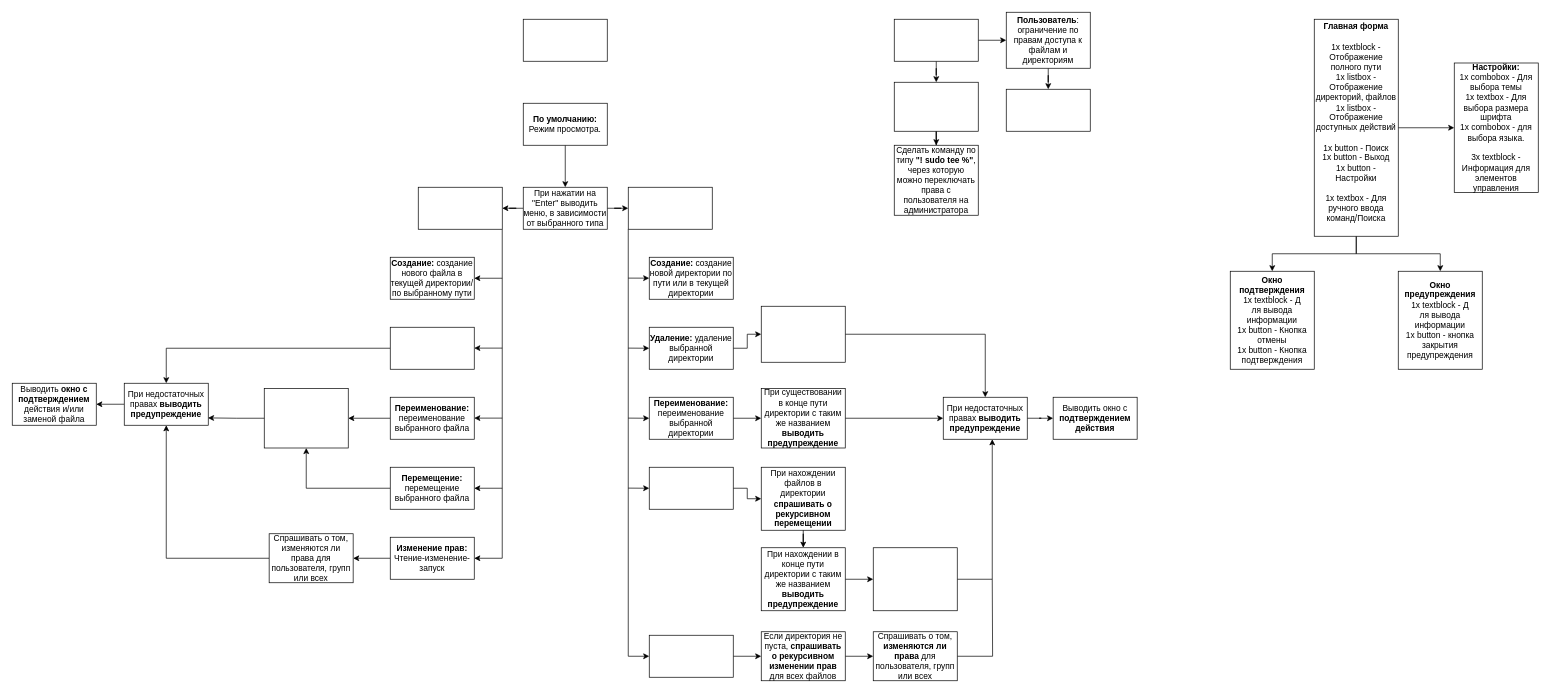
Image size: 1551x694. Some labels were removed from this diagram. The shapes that lost their labels are listed below. From the top down, each one's centre as x and y in pixels, then its label:
At (565,40): "Файловый менеджер".
At (936,40): "Роли: Администратор, Пользователь".
At (936,106): "Роль зависит от прав аккаунта , под которой был совершен вход в ОС".
At (1048,110): "Администратор: доступ к файлам и директориям без ограничений".
At (460,208): "Меню работы с файлом:".
At (670,208): "Меню работы с директорией :".
At (432,348): "Удаление: удаление выбранного файла".
At (803,334): "При нахождении файлов в директории спрашивать о рекурсивном удалении".
At (306,418): "При нахождении файла в директории с таким же названием выводить предупреждение".
At (691,488): "Перемещение: перемещение выбранной директории".
At (915,579): "Спрашивать о необходимости слияния директорий (см. перемещение файлов)".
At (691,656): "Изменение прав: Чтение-изменение".
